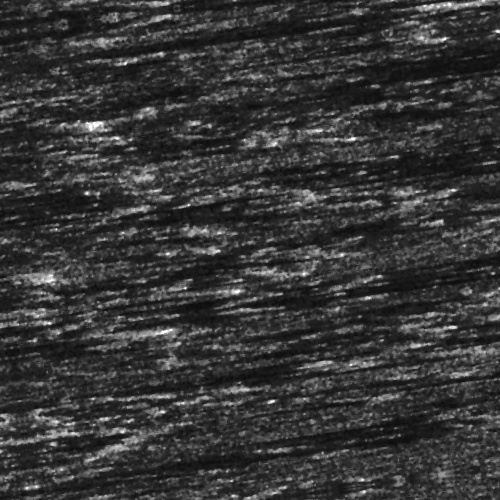object: (105, 485, 282, 498), (93, 307, 186, 322), (342, 358, 435, 371), (401, 26, 500, 37), (0, 68, 50, 81), (460, 188, 500, 201), (249, 140, 322, 147), (449, 450, 500, 459), (162, 0, 225, 7), (86, 187, 159, 192), (183, 282, 246, 287), (421, 63, 474, 68), (449, 378, 480, 385), (276, 368, 317, 373), (75, 98, 106, 103), (493, 366, 500, 375)
shadow: (49, 26, 454, 37), (196, 300, 500, 313), (77, 450, 476, 459), (298, 188, 497, 201), (190, 358, 389, 371), (0, 485, 193, 498), (190, 101, 500, 108), (0, 307, 139, 322), (0, 0, 193, 7), (92, 368, 296, 373), (245, 63, 448, 68), (334, 378, 464, 385), (401, 366, 500, 375), (436, 348, 500, 361), (393, 8, 500, 15), (215, 140, 285, 147), (0, 98, 90, 103), (50, 187, 122, 192), (145, 282, 214, 287), (436, 404, 500, 409)
